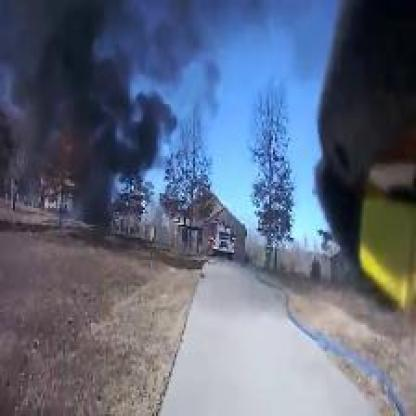other: (346, 184, 412, 320)
smoke: (3, 2, 172, 231)
